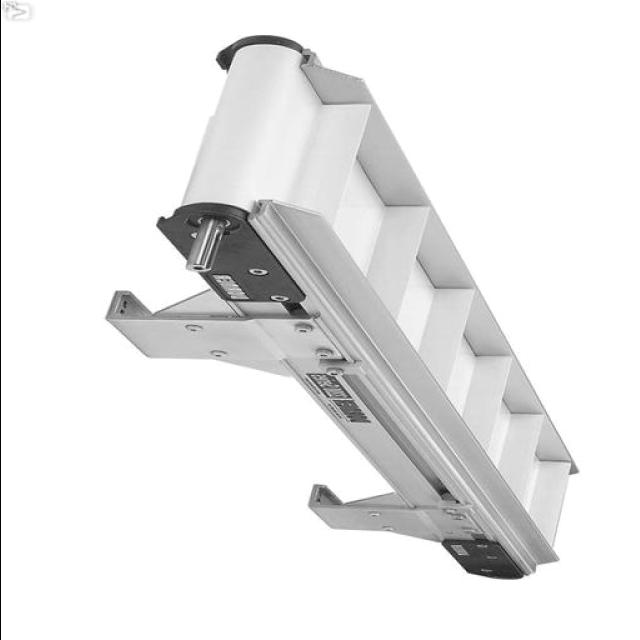conveyor: (288, 79, 575, 551)
